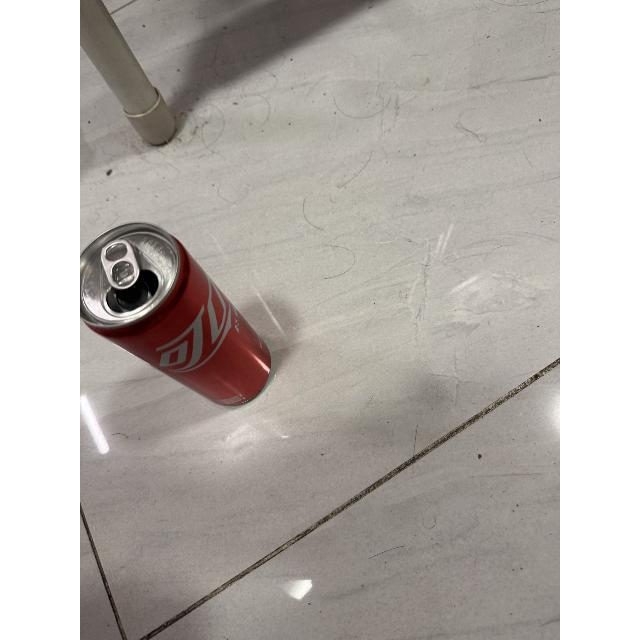coca-cola: (80, 216, 280, 412)
